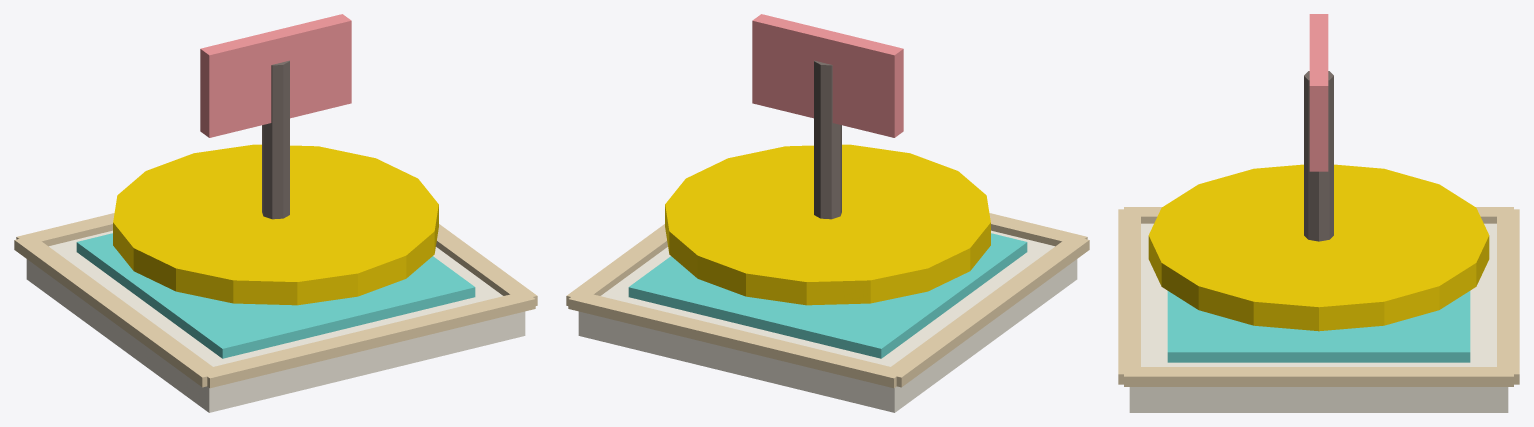
Rendered from city.minigame_park.glb.
3 views of the same model, side by side, from view 1: azimuth 30°, elevation 25°; view 2: azimuth 150°, elevation 25°; view 3: azimuth 270°, elevation 25° (orthographic). The views are drawn at different scales.
Visible parts, largest first — view 1: city.minigame_park; view 2: city.minigame_park; view 3: city.minigame_park.
Boxes of the visible parts, x1,y1,x2,y2 form: city.minigame_park: (14, 14, 537, 412); city.minigame_park: (566, 14, 1089, 412); city.minigame_park: (1118, 14, 1519, 412).
Size of the model in its own units: 2.12 by 1.65 by 2.12.
